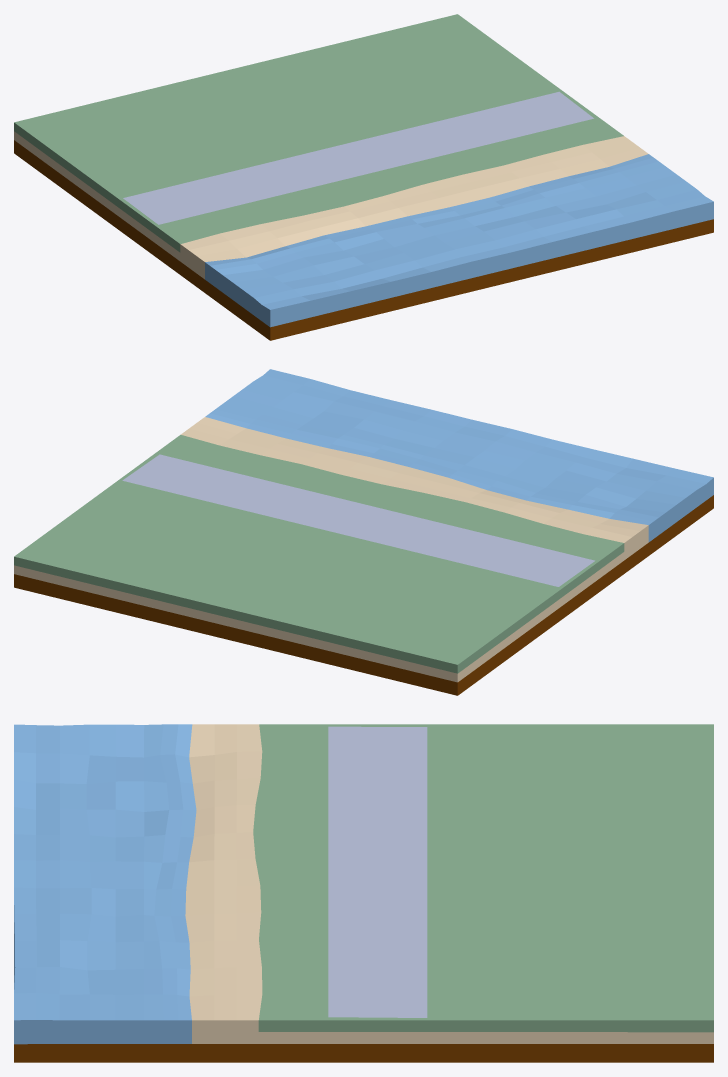
Rendered from environment.glb.
The picture shows the model from 3 angles, top to bottom: view 1: azimuth 30°, elevation 25°; view 2: azimuth 150°, elevation 25°; view 3: azimuth 270°, elevation 25°; orthographic projection. The views are drawn at different scales.
Parts seen in each view (by area): view 1: Cube; view 2: Cube; view 3: Cube.
Part boxes in pixels (left/top/right/bottom): Cube: left=14, top=14, right=713, bottom=340; Cube: left=14, top=369, right=713, bottom=695; Cube: left=14, top=724, right=713, bottom=1062.
Bounding box in the file's own units: 120 × 8 × 120.
